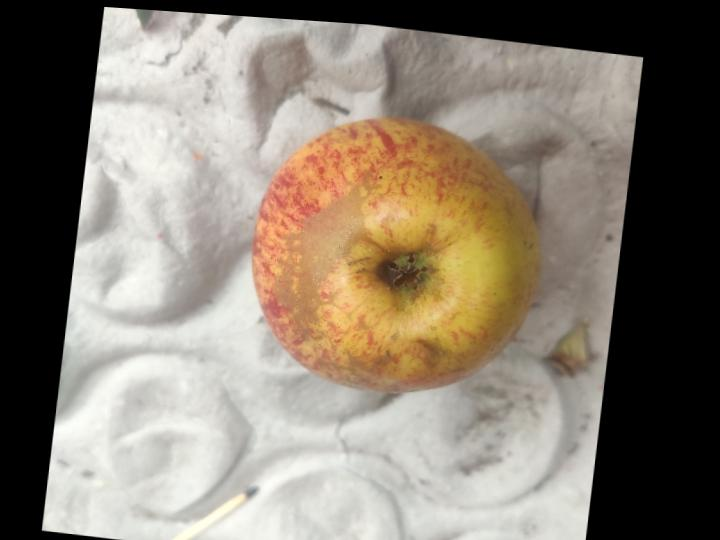apple: (253, 117, 540, 391)
bruise_discoloration: (276, 184, 365, 323), (416, 340, 441, 363)
